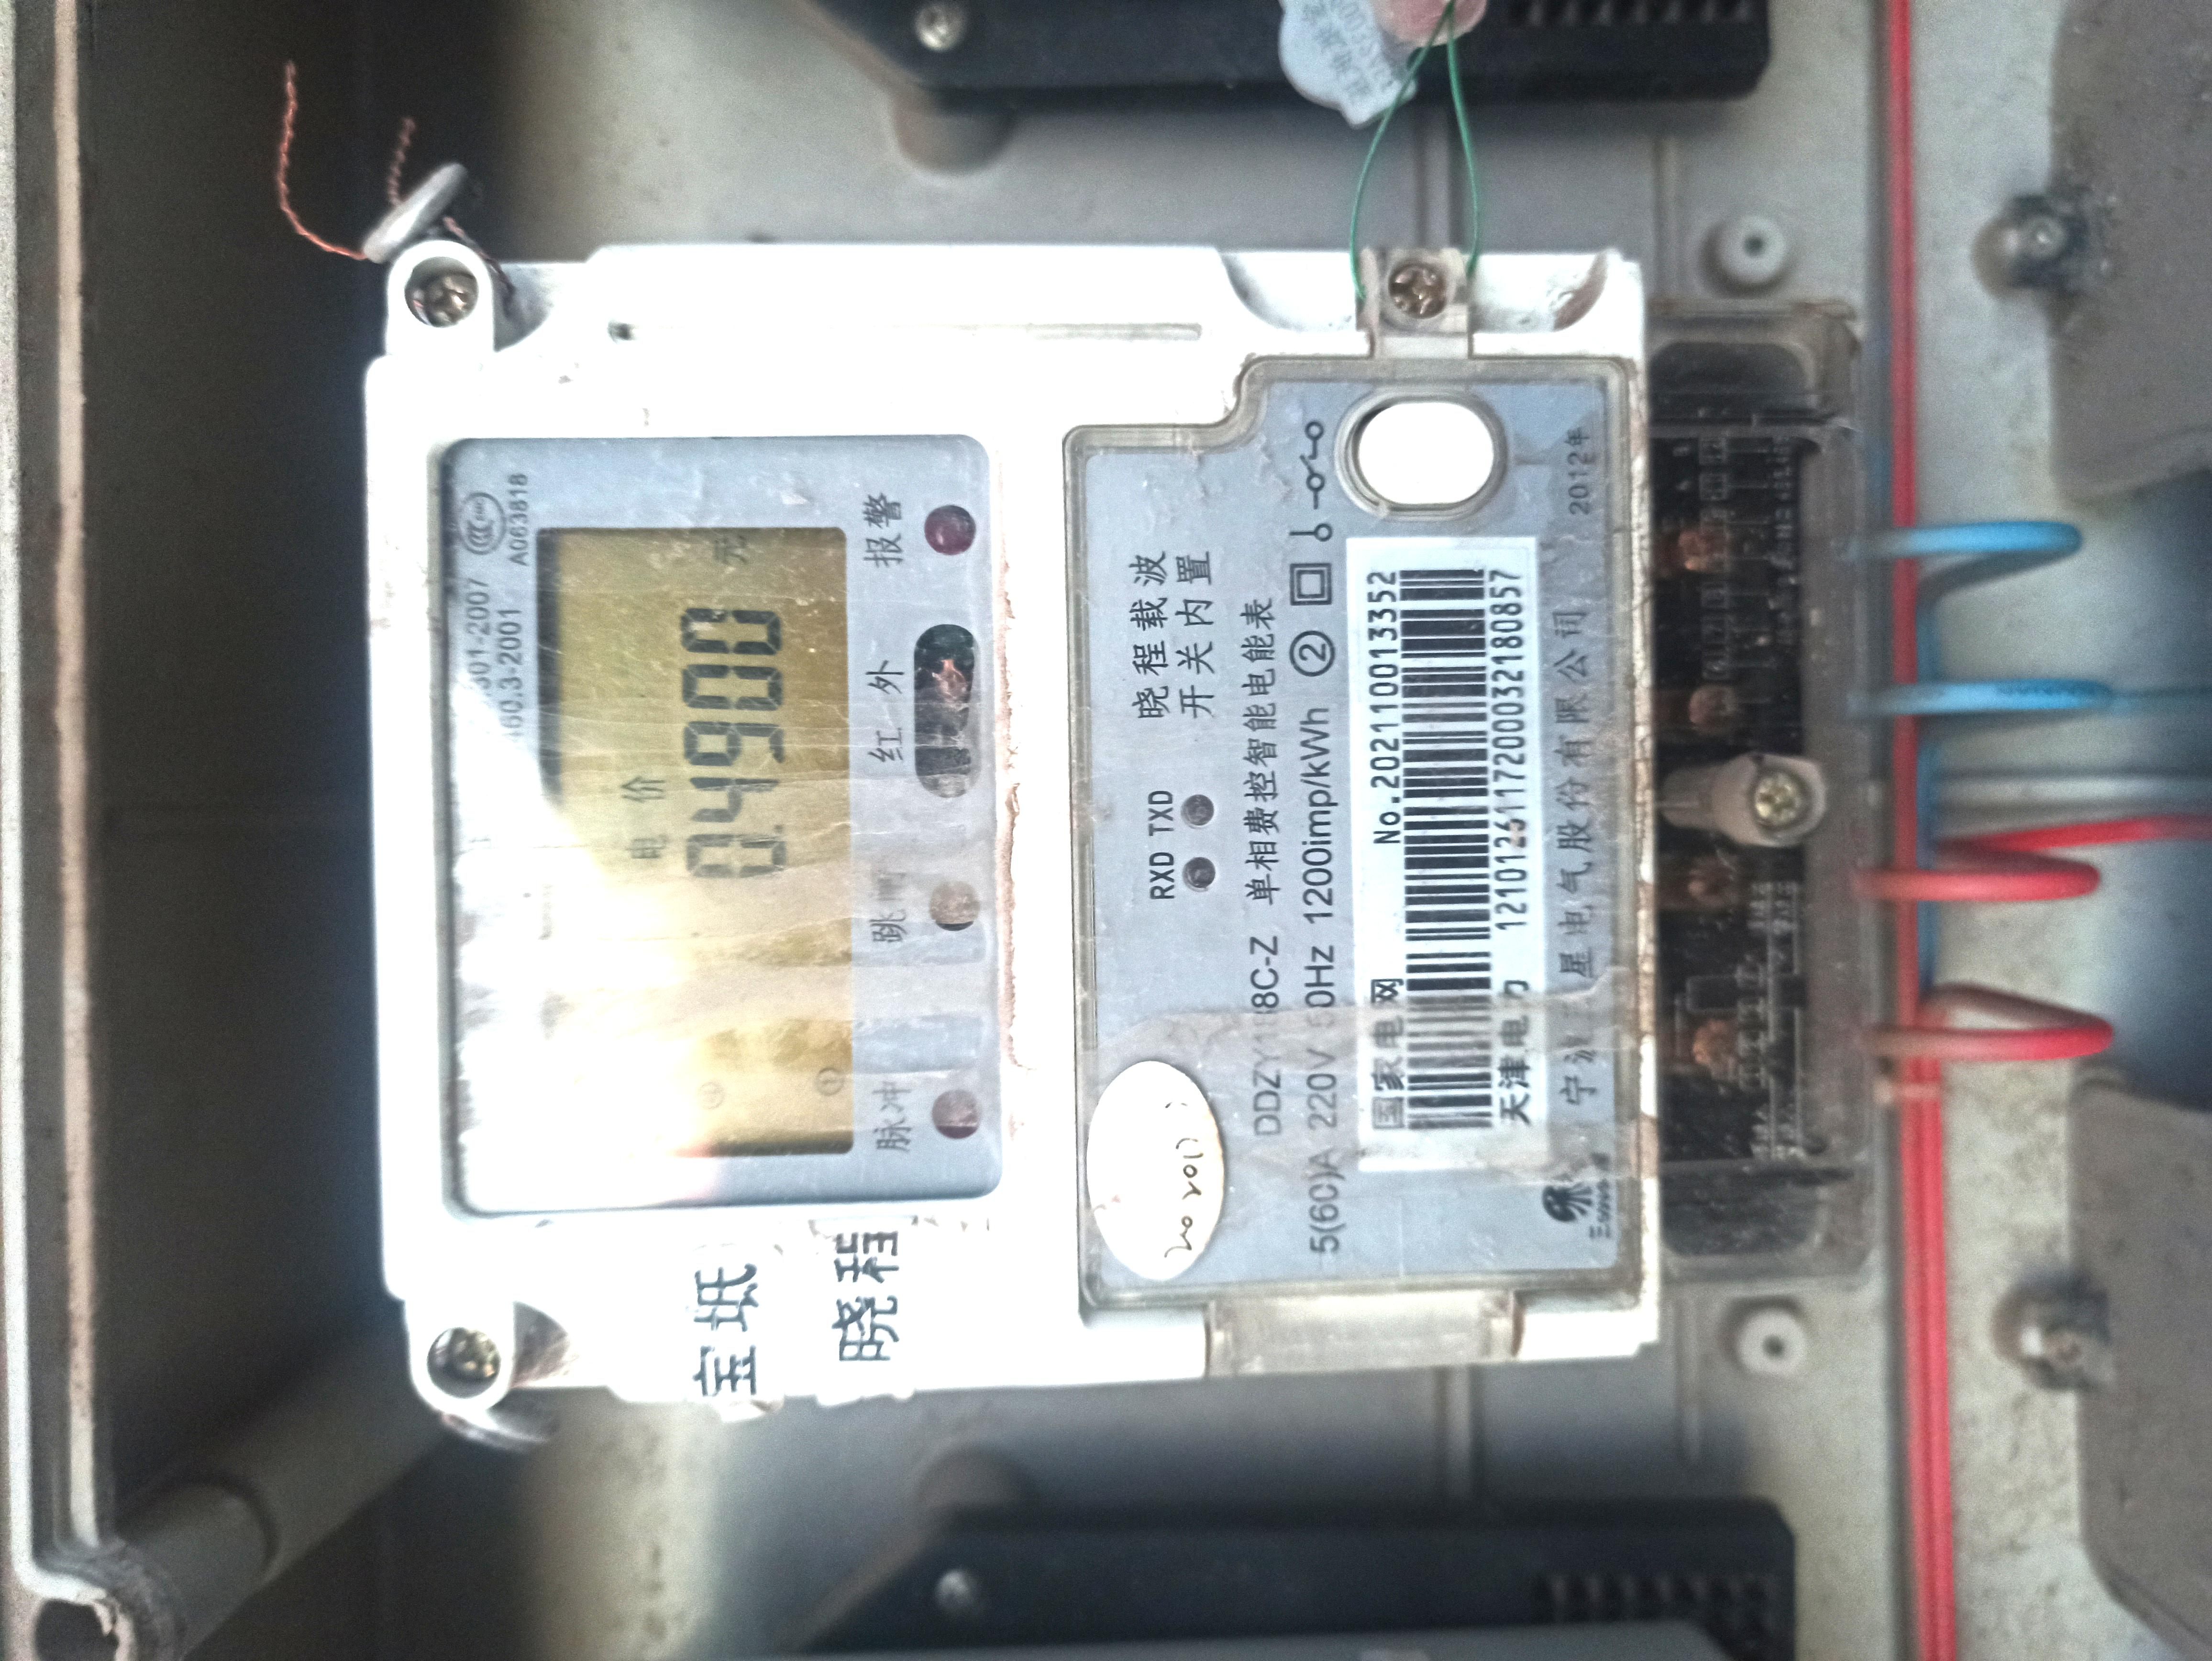digital: (368, 244, 1659, 1385)
